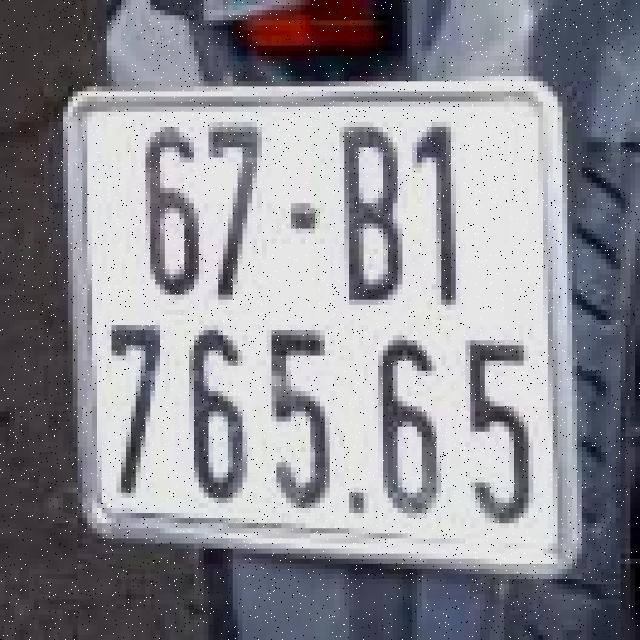1: (412, 120, 466, 312)
5: (463, 333, 541, 536), (262, 320, 334, 513)
6: (373, 330, 446, 523), (184, 322, 252, 506), (138, 120, 201, 302)
7: (204, 120, 266, 308), (107, 320, 165, 503)
B: (337, 120, 410, 312)
